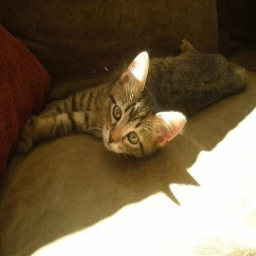cat: (13, 47, 248, 161)
